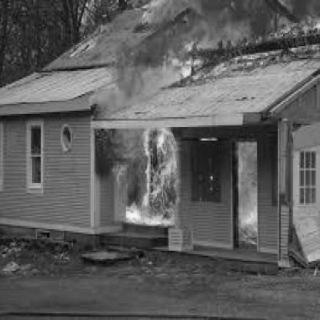Fire: (93, 123, 177, 226), (67, 22, 111, 56), (198, 134, 216, 143)
